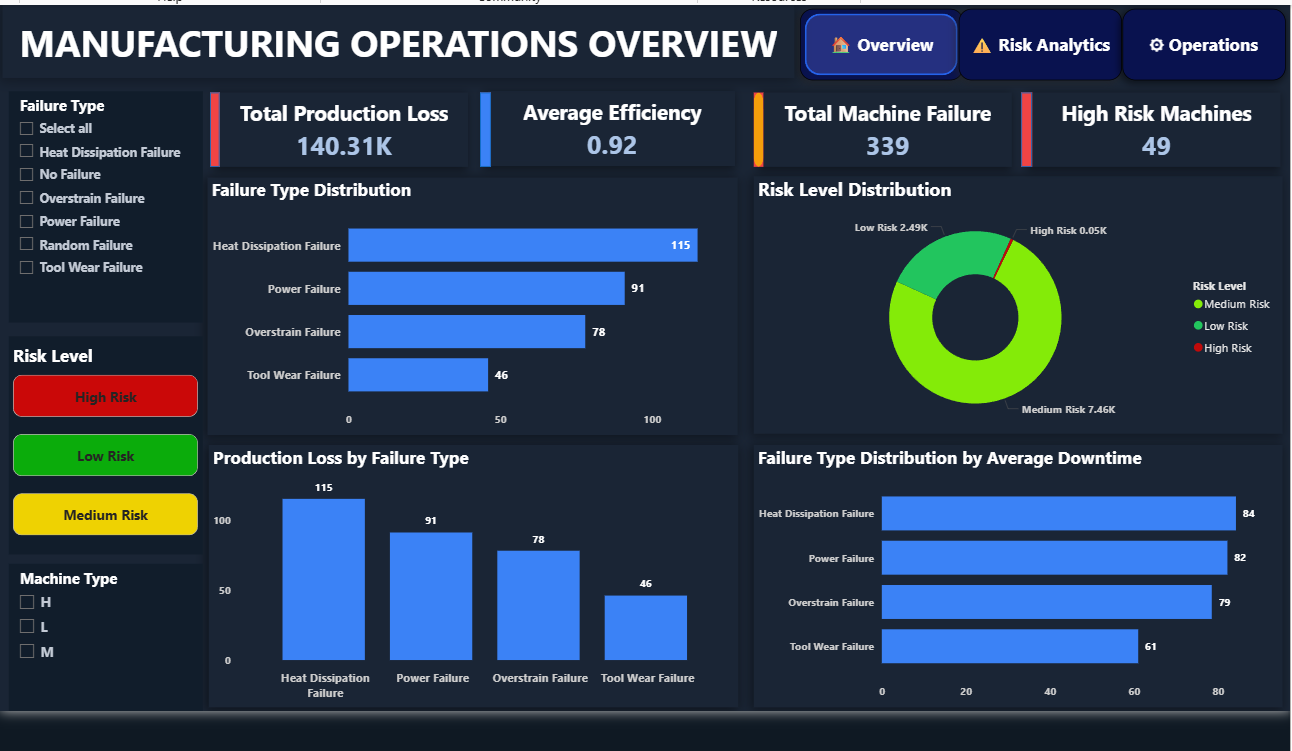

This screenshot's page, from the dashboard's own definition file:
{"tool":"powerbi","page":{"name":"Page 1","canvas":[1500,820],"ordinal":0},"visuals":[{"type":"clusteredBarChart","title":"Failure Type Distribution","fields":{"Category":["manufacturing_project failure_analysis_view.Failure_Type"],"Y":["Sum(manufacturing_project failure_analysis_view.failures)"]},"box":[241,200.6,615.7,299.5],"z":0},{"type":"donutChart","title":"Risk Level Distribution","fields":{"Category":["manufacturing_project machine_health_view.Risk_Level"],"Y":["CountNonNull(manufacturing_project machine_health_view.UDI)"]},"box":[876.2,199.2,614.3,299.5],"z":1000},{"type":"columnChart","title":"Production Loss by Failure Type","fields":{"Category":["manufacturing_project high_risk_summary.Failure_Type"],"Y":["CountNonNull(manufacturing_project machines_data.Production_Loss)"]},"box":[242.4,511.2,615,305.1],"z":2000},{"type":"clusteredBarChart","title":"Failure Type Distribution by Average Downtime","fields":{"Category":["manufacturing_project high_risk_summary.Failure_Type"],"Y":["Sum(manufacturing_project high_risk_summary.avg_downtime)"]},"box":[876.2,511.2,614.3,305.1],"z":3000},{"type":"actionButton","box":[929.1,4.2,189.5,83.6],"z":4000},{"type":"cardVisual","title":"MANUFACTURING OPERATIONS OVERVIEW","fields":{"Data":["manufacturing_project machines_data.Dashboard Title"]},"box":[2.8,0,920,85],"z":5000},{"type":"cardVisual","fields":{"Data":["Sum(manufacturing_project machines_data.Production_Loss)"]},"box":[253.5,101.7,289.7,86.4],"z":6000},{"type":"shape","box":[243.8,101.7,11.1,86.4],"z":7000},{"type":"cardVisual","fields":{"Data":["Avg(manufacturing_project machines_data.Efficiency)"]},"box":[567,100.3,288.4,86],"z":8000},{"type":"shape","box":[557.2,101.7,12.5,86.4],"z":9000},{"type":"cardVisual","fields":{"Data":["Sum(manufacturing_project machines_data.Machine_failure)"]},"box":[886,101.7,289.7,86.4],"z":10000},{"type":"shape","box":[876.2,101.7,11.1,86.4],"z":11000},{"type":"cardVisual","fields":{"Data":["manufacturing_project machines_data.High Risk Machines"]},"box":[1198,101.7,289.7,86.4],"z":12000},{"type":"shape","box":[1186.9,101.7,12.5,86.4],"z":13000},{"type":"slicer","fields":{"Values":["manufacturing_project machines_data.Failure_Type"]},"box":[9.8,100.3,225.7,268.9],"z":14000},{"type":"slicer","fields":{"Values":["manufacturing_project machines_data.Type"]},"box":[9.8,649.1,225.7,171.3],"z":15000},{"type":"advancedSlicerVisual","title":"Risk Level","fields":{"Values":["manufacturing_project machines_data.Risk_Level"]},"box":[9.8,384.5,225.7,253.5],"z":16000},{"type":"actionButton","box":[1114.4,4.2,189.5,83.6],"z":17000},{"type":"actionButton","box":[1303.9,4.2,189.5,83.6],"z":18000}]}

Visuals, with their boxes on the page's 1500x820 design canvas (x1, y1, x2, y2). These are canvas units, not pixel positions in the 1292x751 screenshot, which may show the page scaled, cropped or inside an application window:
"Failure Type Distribution" clusteredBarChart: locate(241, 201, 857, 500)
"Risk Level Distribution" donutChart: locate(876, 199, 1490, 499)
"Production Loss by Failure Type" columnChart: locate(242, 511, 857, 816)
"Failure Type Distribution by Average Downtime" clusteredBarChart: locate(876, 511, 1490, 816)
actionButton: locate(929, 4, 1119, 88)
"MANUFACTURING OPERATIONS OVERVIEW" cardVisual: locate(3, 0, 923, 85)
cardVisual - Sum(manufacturing_project machines_data.Production_Loss): locate(254, 102, 543, 188)
shape: locate(244, 102, 255, 188)
cardVisual - Avg(manufacturing_project machines_data.Efficiency): locate(567, 100, 855, 186)
shape: locate(557, 102, 570, 188)
cardVisual - Sum(manufacturing_project machines_data.Machine_failure): locate(886, 102, 1176, 188)
shape: locate(876, 102, 887, 188)
cardVisual - manufacturing_project machines_data.High Risk Machines: locate(1198, 102, 1488, 188)
shape: locate(1187, 102, 1199, 188)
slicer - manufacturing_project machines_data.Failure_Type: locate(10, 100, 236, 369)
slicer - manufacturing_project machines_data.Type: locate(10, 649, 236, 820)
"Risk Level" advancedSlicerVisual: locate(10, 384, 236, 638)
actionButton: locate(1114, 4, 1304, 88)
actionButton: locate(1304, 4, 1493, 88)
